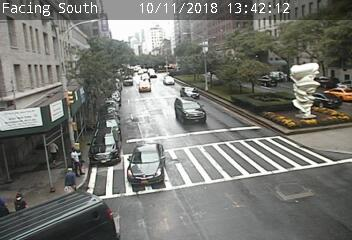car: (128, 144, 165, 186), (90, 128, 120, 164), (174, 97, 206, 123), (307, 92, 341, 107), (323, 86, 352, 102), (253, 76, 277, 87), (179, 87, 199, 99), (138, 80, 150, 92), (163, 76, 174, 85)
